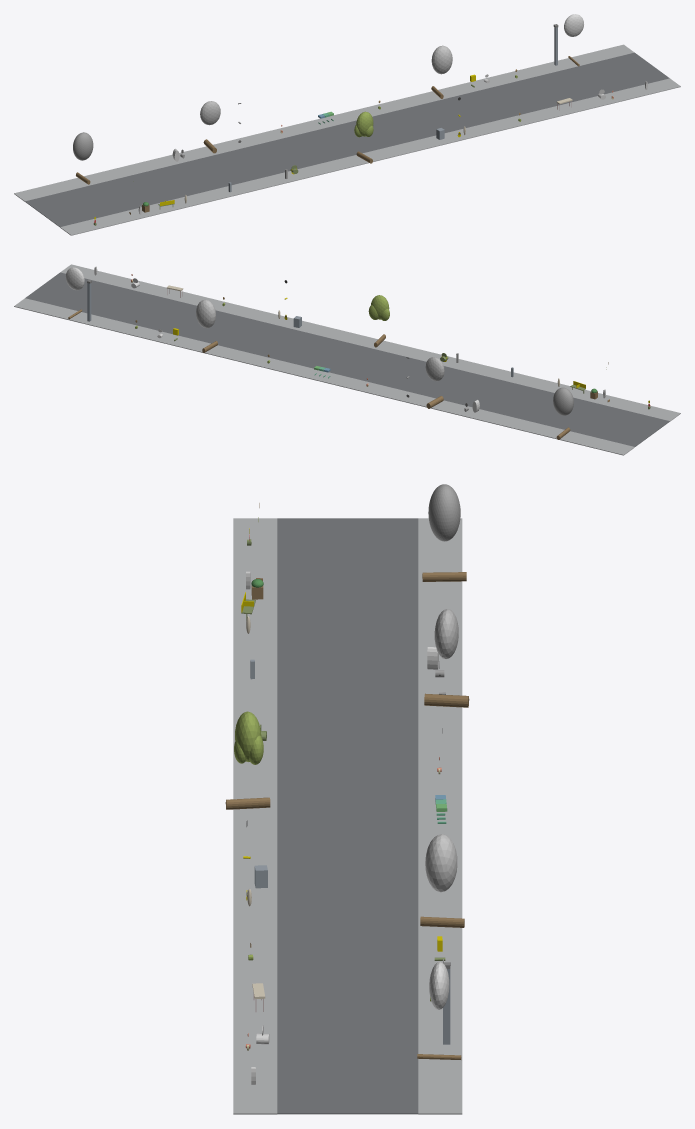
The picture shows the model from 3 angles, top to bottom: view 1: azimuth 30°, elevation 25°; view 2: azimuth 150°, elevation 25°; view 3: azimuth 270°, elevation 25°; orthographic projection. The views are drawn at different scales.
Visible parts, largest first — view 1: road_slab, sidewalk_left, sidewalk_right, inst_0015, inst_0012, inst_0013, inst_0014, inst_0016; view 2: road_slab, sidewalk_right, sidewalk_left, inst_0012, inst_0015, inst_0014, inst_0013, inst_0016; view 3: road_slab, sidewalk_left, sidewalk_right, inst_0015, inst_0012, inst_0014, inst_0013, inst_0016.
Part boxes in pixels (x1,y1,x2,y2): road_slab: (25, 52, 669, 227); sidewalk_left: (60, 78, 680, 235); sidewalk_right: (14, 44, 634, 201); inst_0015: (431, 45, 452, 98); inst_0012: (73, 132, 93, 184); inst_0013: (200, 101, 220, 153); inst_0014: (354, 111, 373, 163); inst_0016: (564, 14, 583, 66); road_slab: (25, 272, 669, 446); sidewalk_right: (14, 298, 634, 455); sidewalk_left: (60, 264, 680, 421); inst_0012: (553, 387, 573, 439); inst_0015: (196, 299, 217, 352); inst_0014: (368, 295, 389, 347); inst_0013: (425, 357, 444, 408); inst_0016: (65, 267, 84, 319); road_slab: (277, 518, 418, 1114); sidewalk_left: (233, 518, 277, 1114); sidewalk_right: (418, 518, 462, 1114); inst_0015: (420, 834, 464, 927); inst_0012: (422, 484, 466, 581); inst_0014: (225, 711, 270, 809); inst_0013: (424, 609, 469, 707); inst_0016: (417, 962, 461, 1059).
Size of the model in its own units: 80 by 6.08 by 13.83.
